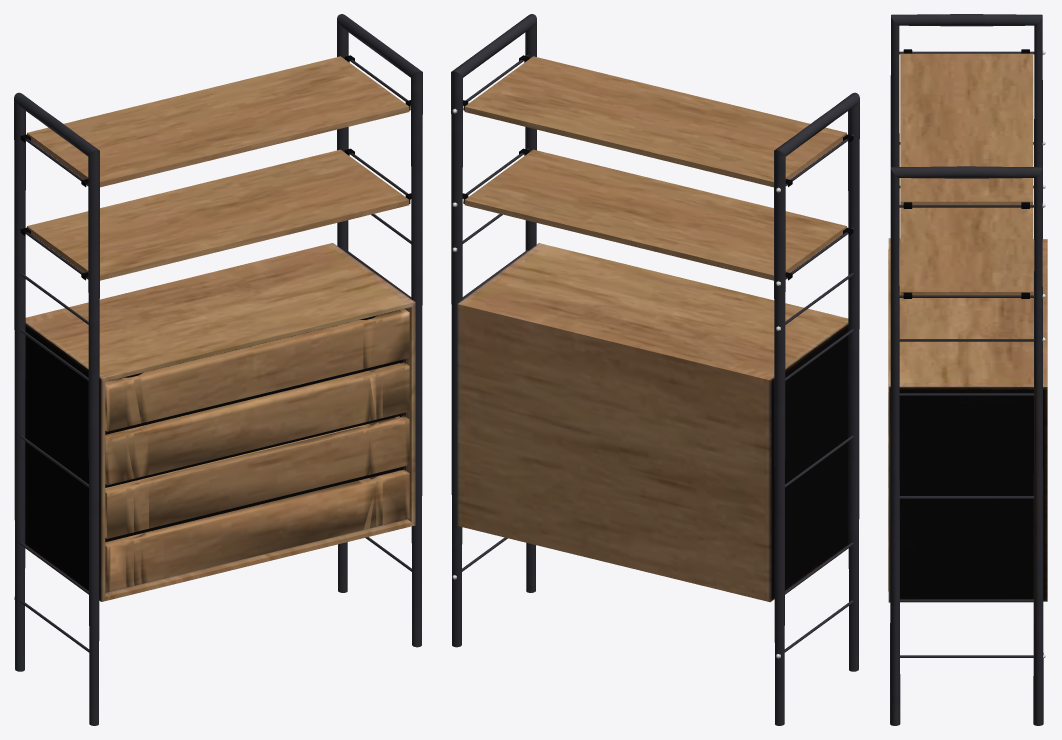
File: drawer_cabinet.glb
3 renders of one model, left to right at view 1: azimuth 30°, elevation 25°; view 2: azimuth 150°, elevation 25°; view 3: azimuth 270°, elevation 25°, orthographic. The views are drawn at different scales.
Parts seen in each view (by area): view 1: drawer_cabinet; view 2: drawer_cabinet; view 3: drawer_cabinet.
Part boxes in pixels (bbox=[...]): drawer_cabinet: bbox=[14, 14, 422, 725]; drawer_cabinet: bbox=[451, 14, 859, 725]; drawer_cabinet: bbox=[888, 14, 1047, 725].
Bounding box in the file's own units: 1.14 × 1.88 × 0.4881.
Materials: 1 (1 with a texture image).
